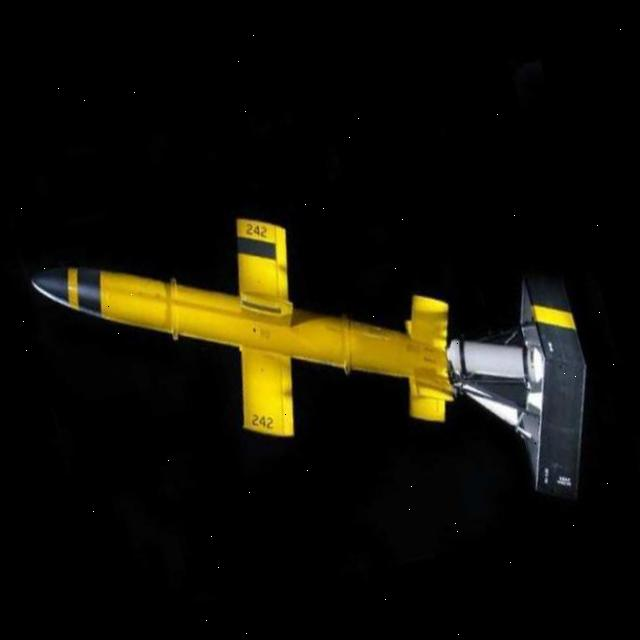missile: (31, 51, 624, 616)
